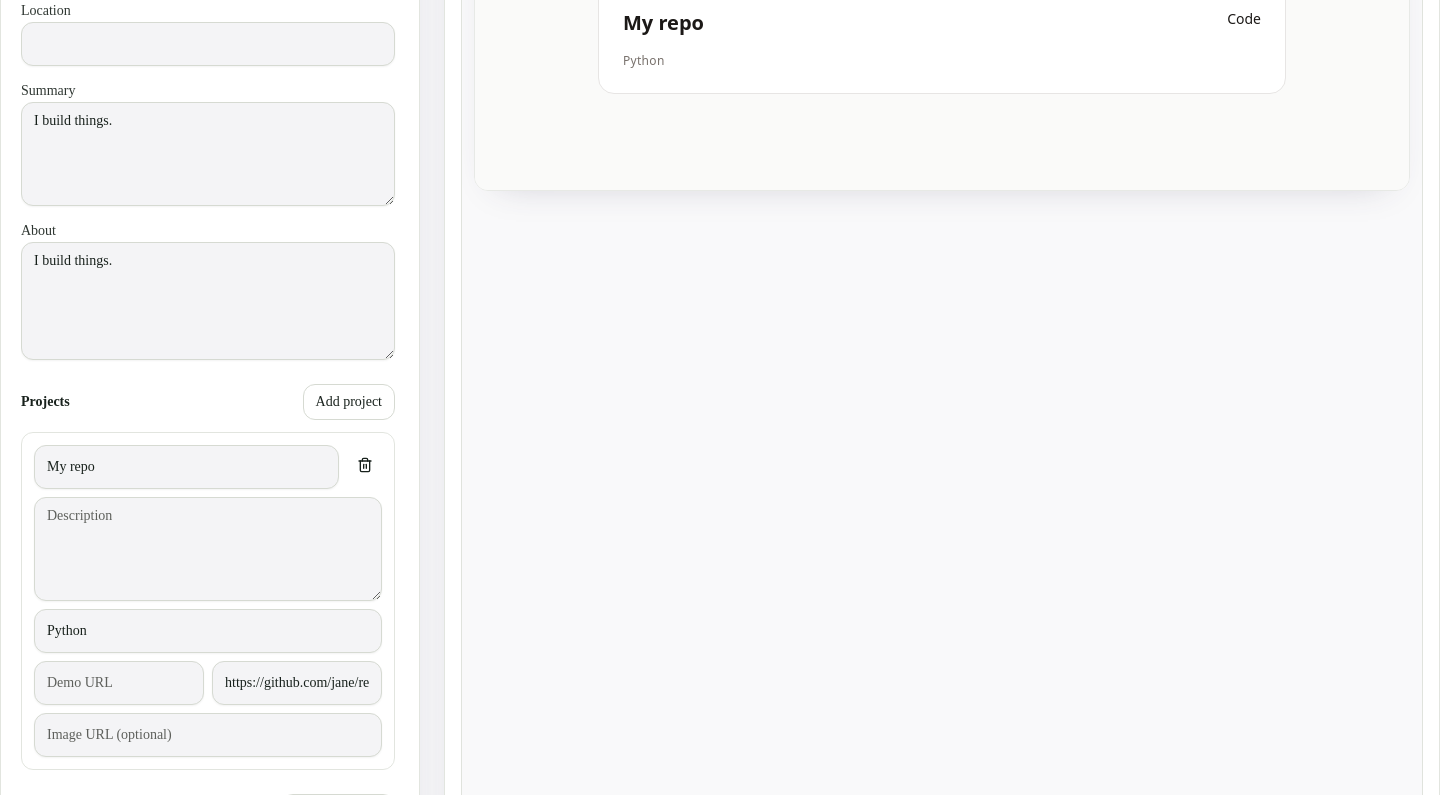
it: PortfolioEditor (Portfolio Studio) › adds a project from the content tab
(page scrolled)
Click the button "Add project" at (349, 402), box [302, 384, 395, 420]
(page scrolled)
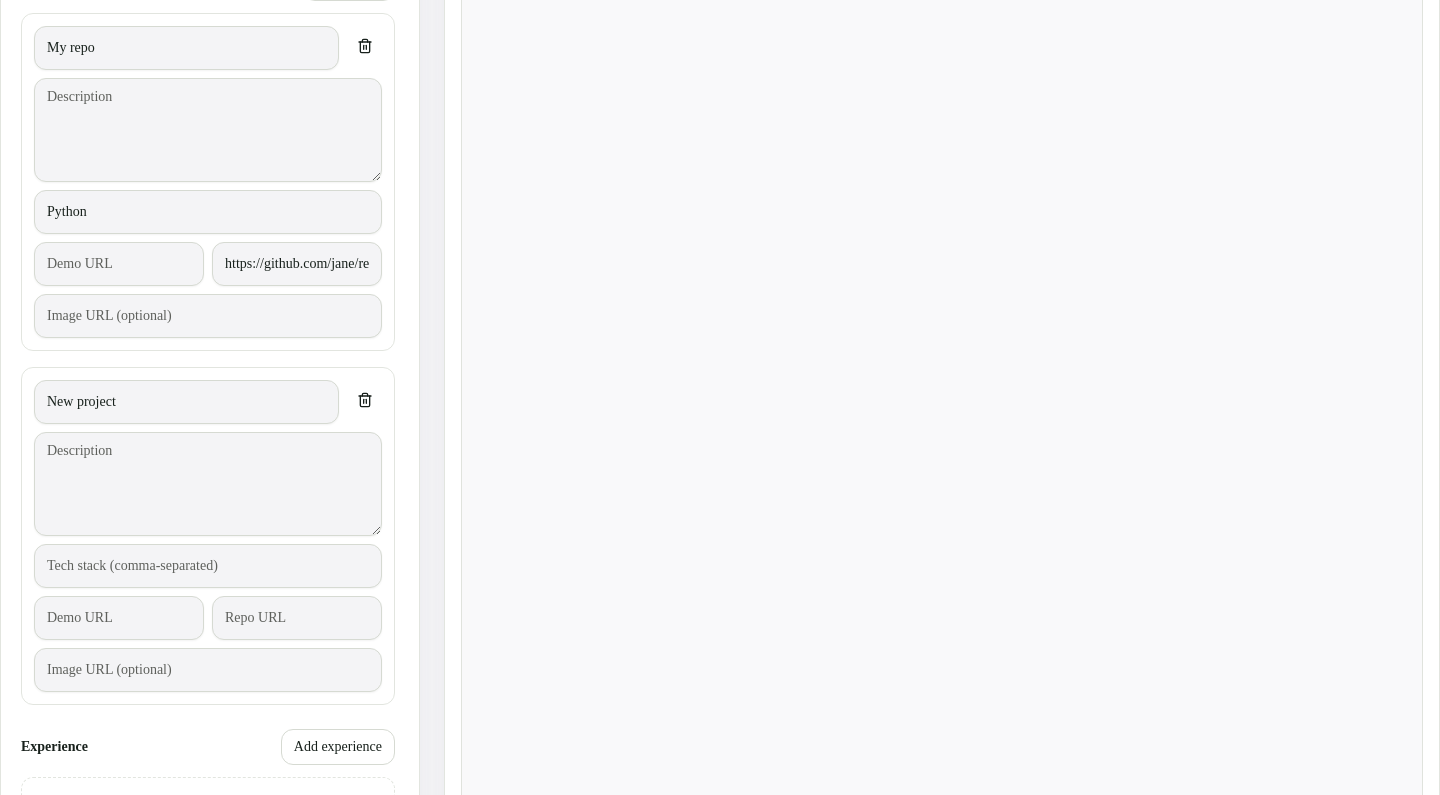
Expected: the 4th field showing "New project" is shown, [34, 380, 339, 424]
